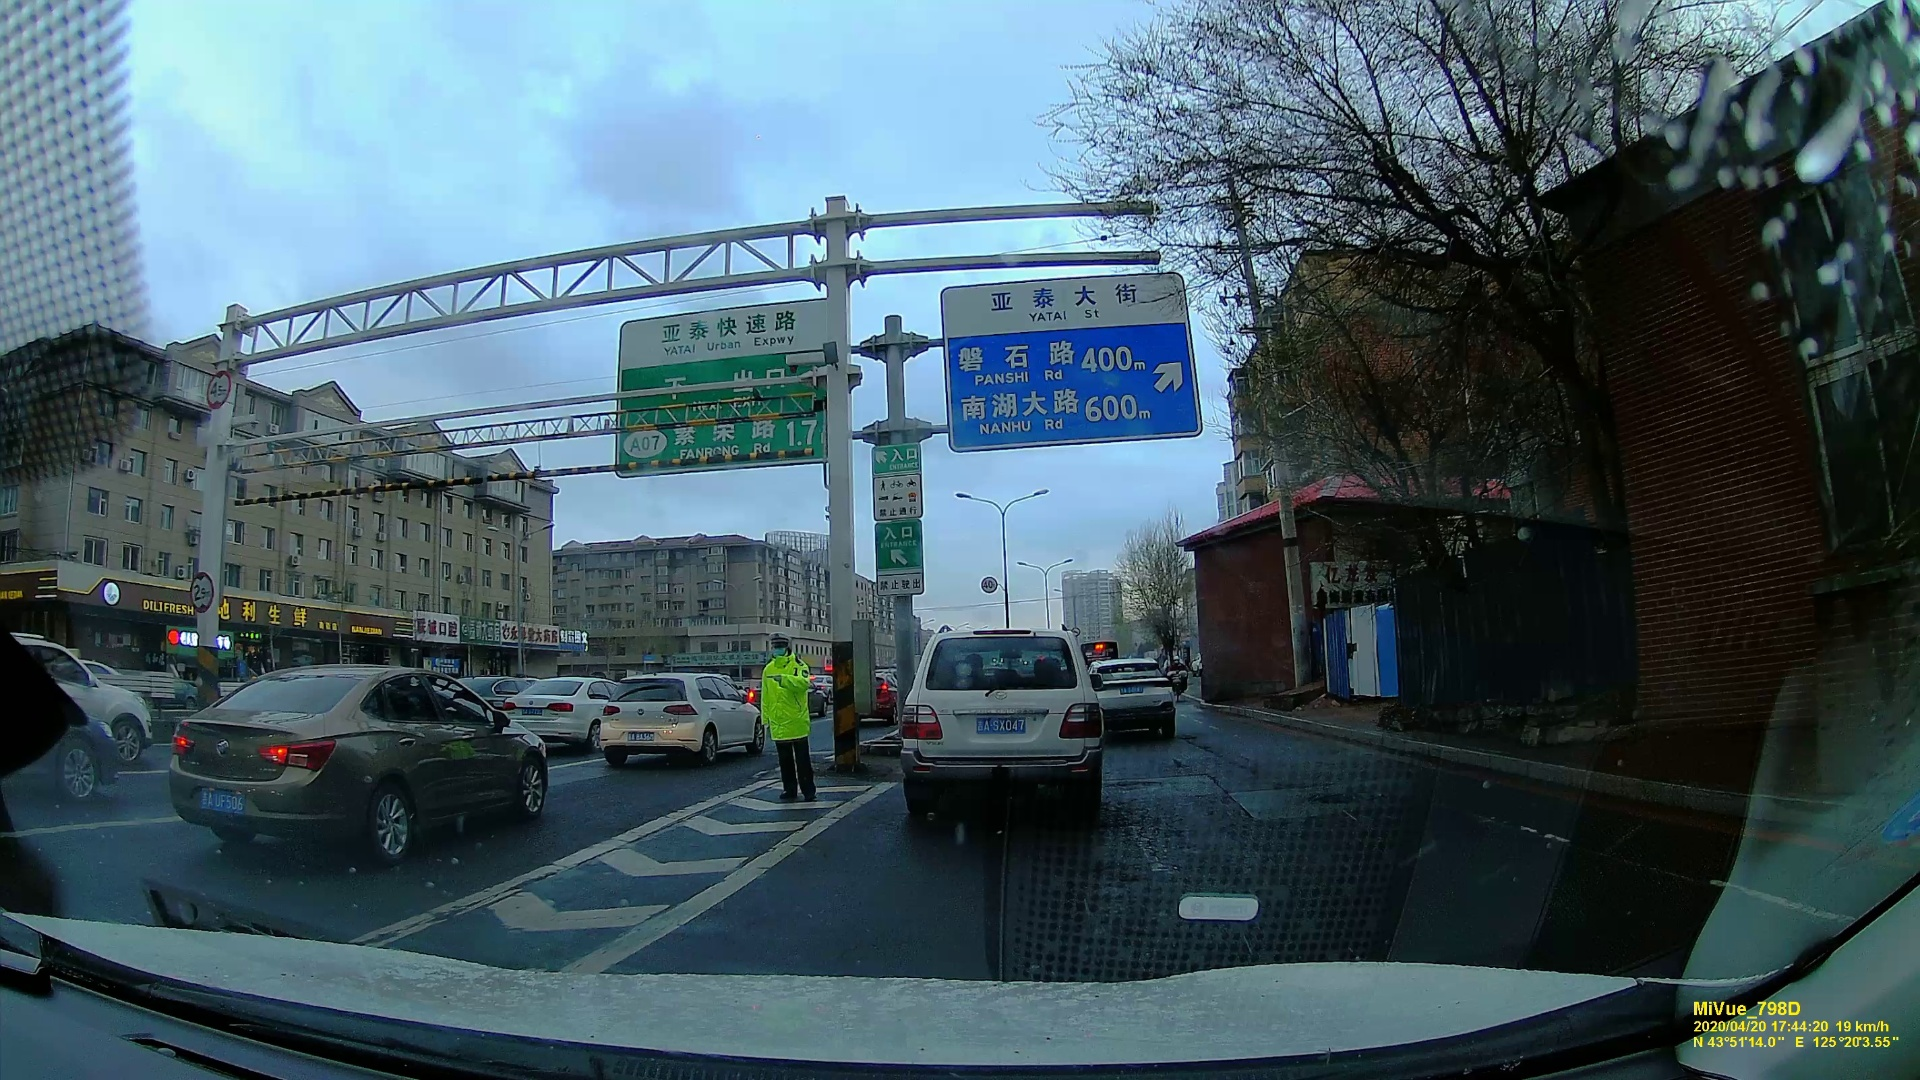person: (750, 631, 826, 802)
traffic_sign: (942, 274, 1188, 452), (618, 312, 826, 468), (874, 511, 923, 589), (874, 469, 918, 520)
vehicle: (160, 655, 551, 864), (900, 628, 1100, 807), (6, 636, 161, 792), (597, 672, 752, 766), (512, 674, 612, 748), (1081, 664, 1177, 736)
